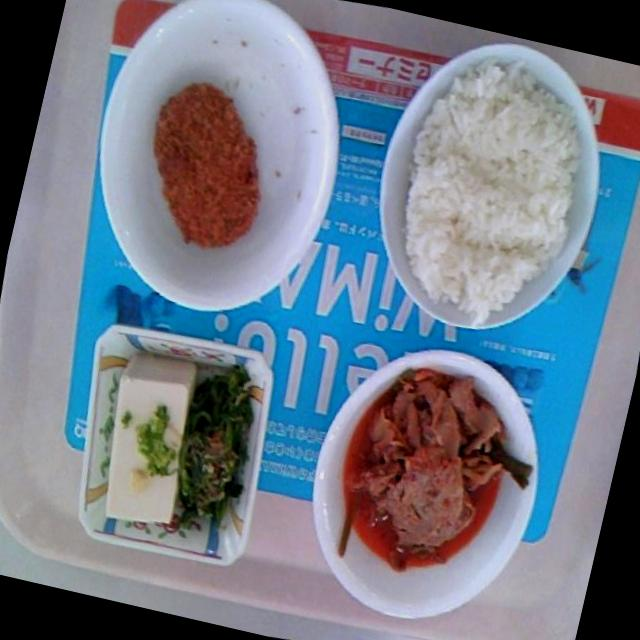Rice: (360, 43, 620, 350)
